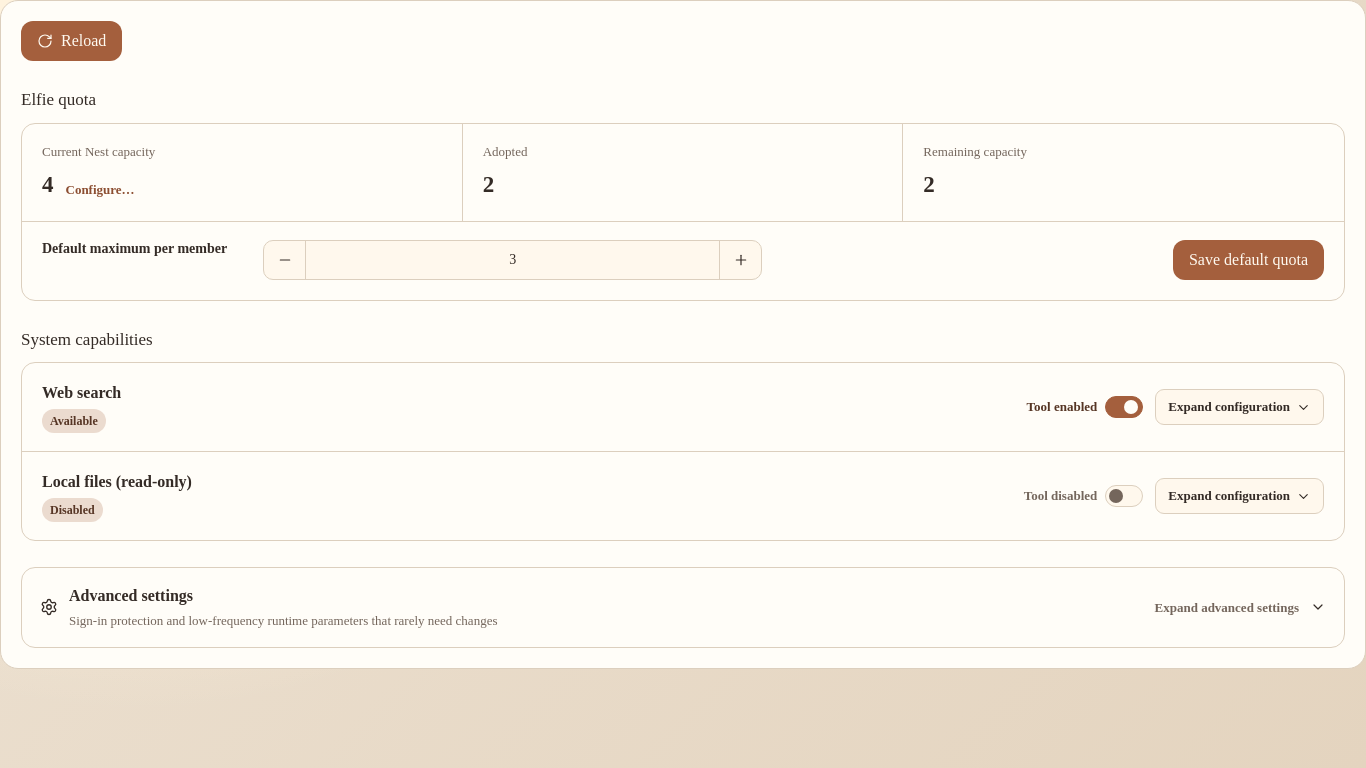
SystemSettingsPanel › keeps localized save failures inside the system settings page
Expected: the heading "Elfie quota" is shown, [21, 87, 96, 112]
Click the button "Save default quota": (1248, 260) [1173, 240, 1324, 280]
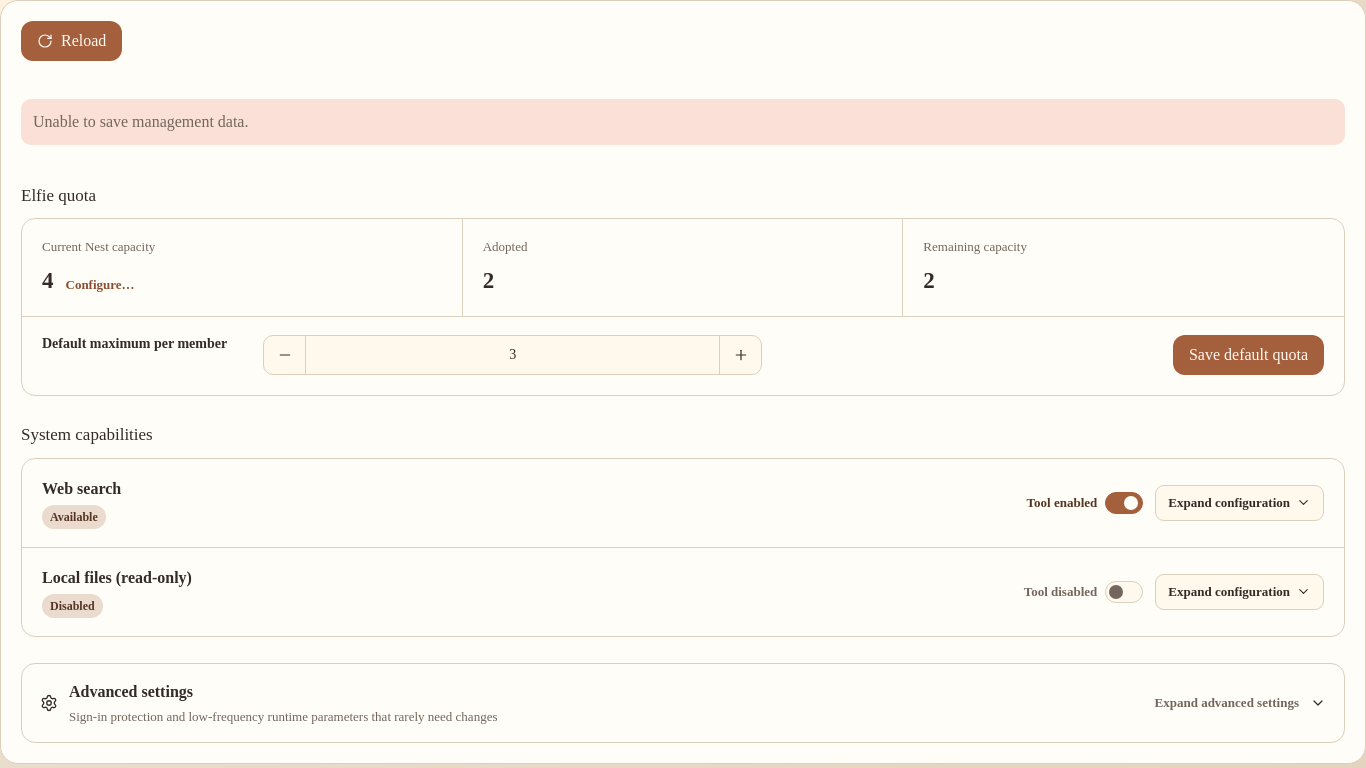
Now the message reads "Unable to save management data.", box [33, 113, 248, 130]
